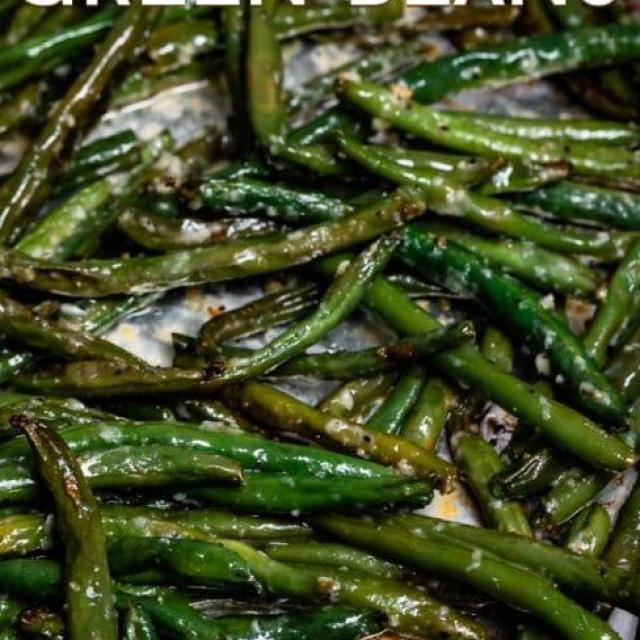Beans: (0, 17, 640, 637)
